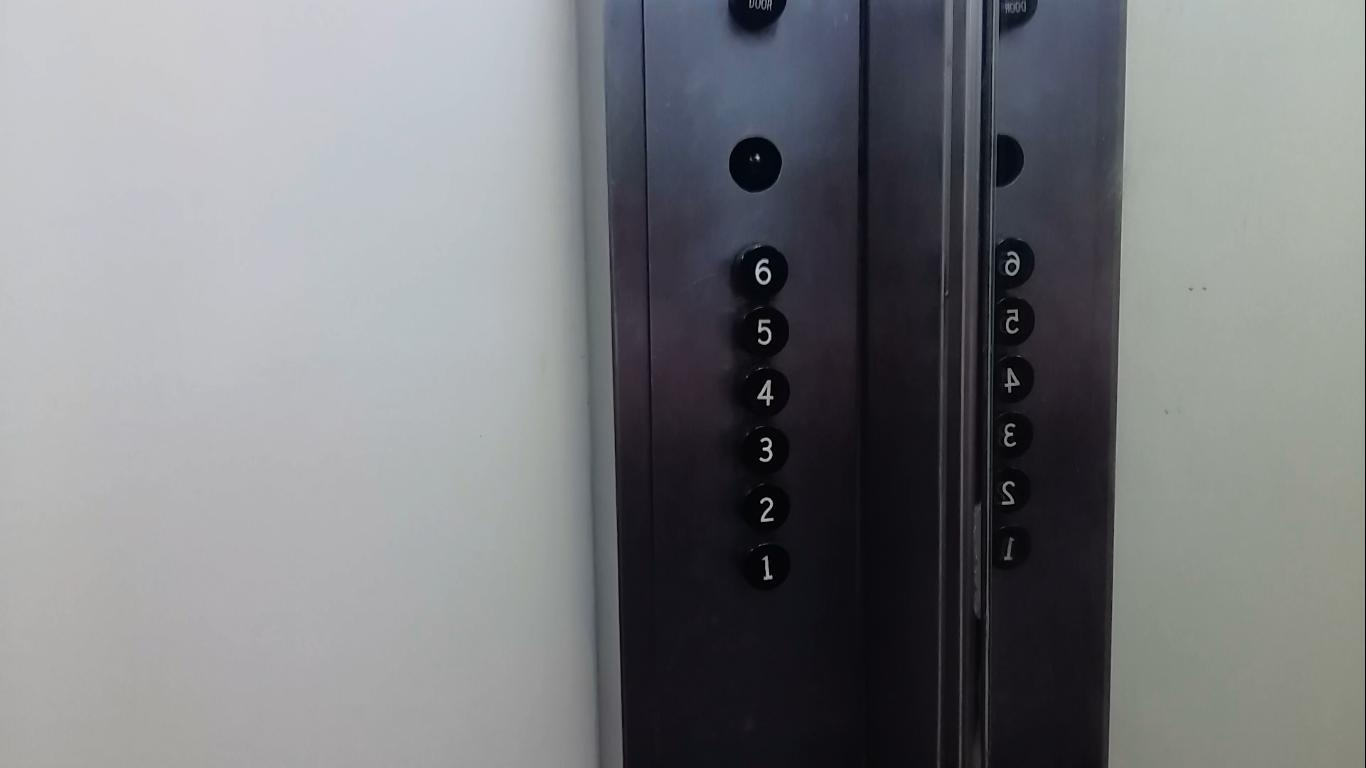1: (738, 538, 793, 590)
2: (738, 479, 793, 537)
3: (738, 423, 794, 478)
4: (737, 364, 792, 419)
5: (736, 304, 791, 360)
6: (734, 243, 789, 302)
blur: (728, 134, 784, 194)
unknown: (985, 353, 1036, 404), (986, 295, 1035, 345), (988, 410, 1037, 459), (986, 520, 1034, 570), (991, 235, 1036, 287), (987, 466, 1034, 514)
